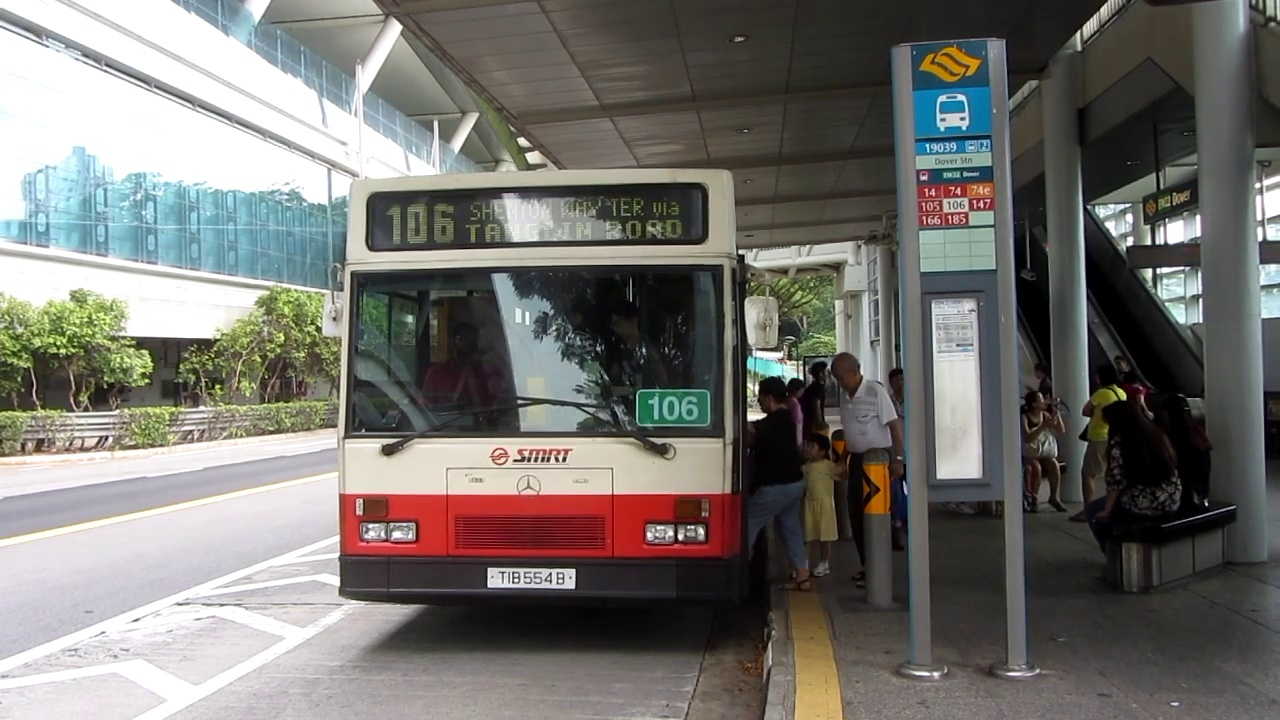bus panel: (363, 181, 712, 254)
